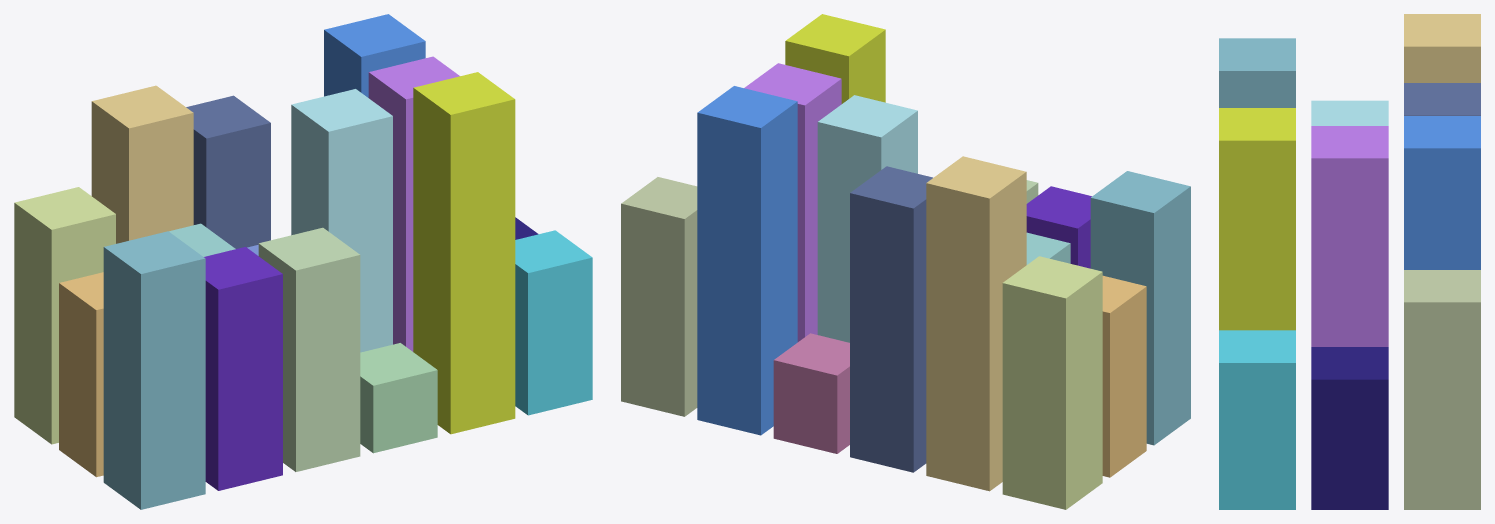
Rendered from blocks.glb.
3 renders of one model, left to right at view 1: azimuth 30°, elevation 25°; view 2: azimuth 150°, elevation 25°; view 3: azimuth 270°, elevation 25°, orthographic. The views are drawn at different scales.
Visible parts, largest first — view 1: Cube_0_4, Cube_0_0, Cube_0_2, Cube_1_3, Cube_0_1, Cube_2_0, Cube_2_1, Cube_0_5, Cube_2_2, Cube_1_0, Cube_1_4, Cube_0_3 (+2 smaller); view 2: Cube_2_4, Cube_2_1, Cube_2_0, Cube_2_2, Cube_2_5, Cube_0_0, Cube_1_3, Cube_1_0, Cube_2_3, Cube_1_4, Cube_0_4, Cube_0_1 (+1 smaller); view 3: Cube_2_5, Cube_1_4, Cube_0_4, Cube_0_5, Cube_1_5, Cube_2_4, Cube_0_0, Cube_2_1, Cube_2_2, Cube_1_3.
Boxes of the visible parts, box(x1,y1,x2,y2) form: Cube_0_4: box(413, 72, 515, 434); Cube_0_0: box(103, 231, 205, 509); Cube_0_2: box(258, 227, 360, 471); Cube_1_3: box(291, 89, 392, 352); Cube_0_1: box(204, 247, 282, 490); Cube_2_0: box(14, 187, 115, 444); Cube_2_1: box(91, 85, 193, 243); Cube_0_5: box(515, 230, 592, 415); Cube_2_2: box(186, 95, 270, 248); Cube_1_0: box(59, 272, 103, 477); Cube_1_4: box(368, 56, 459, 351); Cube_0_3: box(360, 343, 437, 453); Cube_2_4: box(697, 86, 797, 435); Cube_2_1: box(926, 156, 1026, 491); Cube_2_0: box(1002, 256, 1102, 509); Cube_2_2: box(850, 166, 932, 472); Cube_2_5: box(621, 177, 697, 416); Cube_0_0: box(1090, 171, 1190, 445); Cube_1_3: box(817, 95, 917, 342); Cube_1_0: box(1102, 275, 1146, 477); Cube_2_3: box(773, 333, 849, 453); Cube_1_4: box(744, 63, 841, 341); Cube_0_4: box(785, 14, 885, 103); Cube_0_1: box(1026, 186, 1091, 268); Cube_2_5: box(1404, 270, 1480, 509); Cube_1_4: box(1311, 126, 1388, 346); Cube_0_4: box(1219, 108, 1295, 330); Cube_0_5: box(1219, 330, 1295, 509); Cube_1_5: box(1311, 347, 1388, 509); Cube_2_4: box(1404, 116, 1480, 269); Cube_0_0: box(1219, 38, 1295, 107); Cube_2_1: box(1404, 14, 1480, 82); Cube_2_2: box(1404, 83, 1480, 115); Cube_1_3: box(1311, 100, 1388, 125).
Bounding box in the file's own units: 7 × 4.73 × 3.4.
